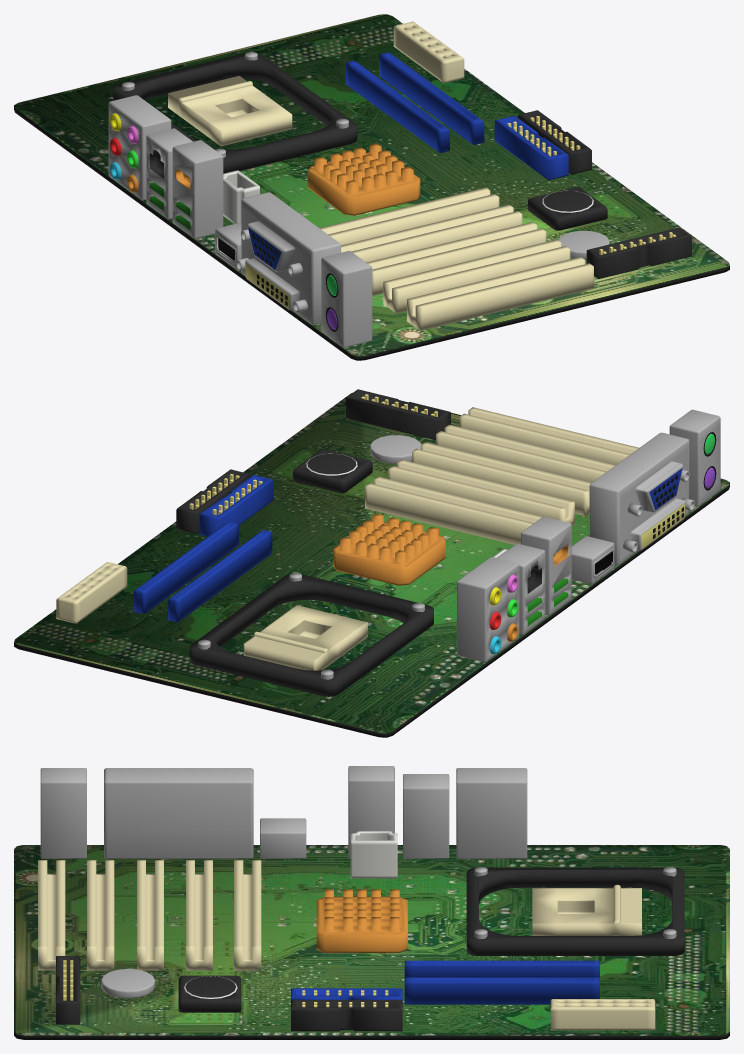
File: motherboard.fbx
3 views of the same model, one above another, from view 1: azimuth 30°, elevation 25°; view 2: azimuth 150°, elevation 25°; view 3: azimuth 270°, elevation 25° (orthographic). The views are drawn at different scales.
Visible parts, largest first — view 1: motherboard; view 2: motherboard; view 3: motherboard.
Part boxes in pixels (box(x1,y1,x2,y2)): motherboard: box(14, 14, 729, 360); motherboard: box(14, 389, 729, 737); motherboard: box(14, 766, 729, 1039).
Bounding box in the file's own units: 19.02 × 3.79 × 29.25.
